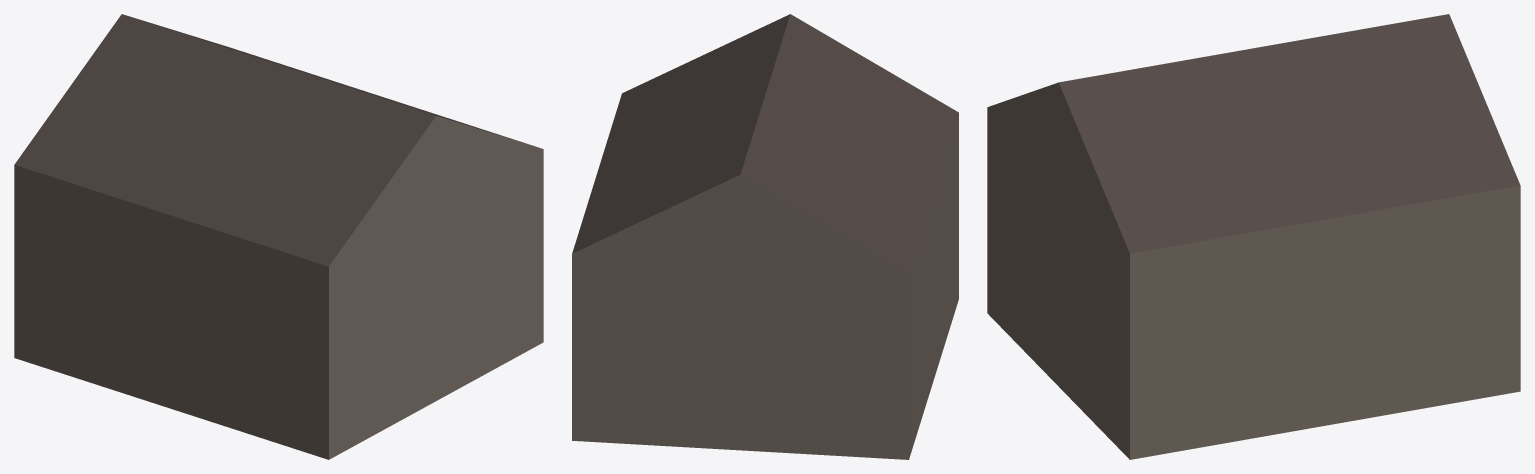
The picture shows the model from 3 angles, left to right: view 1: azimuth 30°, elevation 25°; view 2: azimuth 150°, elevation 25°; view 3: azimuth 270°, elevation 25°; orthographic projection. The views are drawn at different scales.
Parts seen in each view (by area): view 1: HP-w1197054924; view 2: HP-w1197054924; view 3: HP-w1197054924.
Part boxes in pixels (x1=…): HP-w1197054924: x1=14, y1=14, x2=543, y2=459; HP-w1197054924: x1=572, y1=14, x2=958, y2=459; HP-w1197054924: x1=987, y1=14, x2=1520, y2=459.
Bounding box in the file's own units: 13.42 × 8.85 × 14.06.
